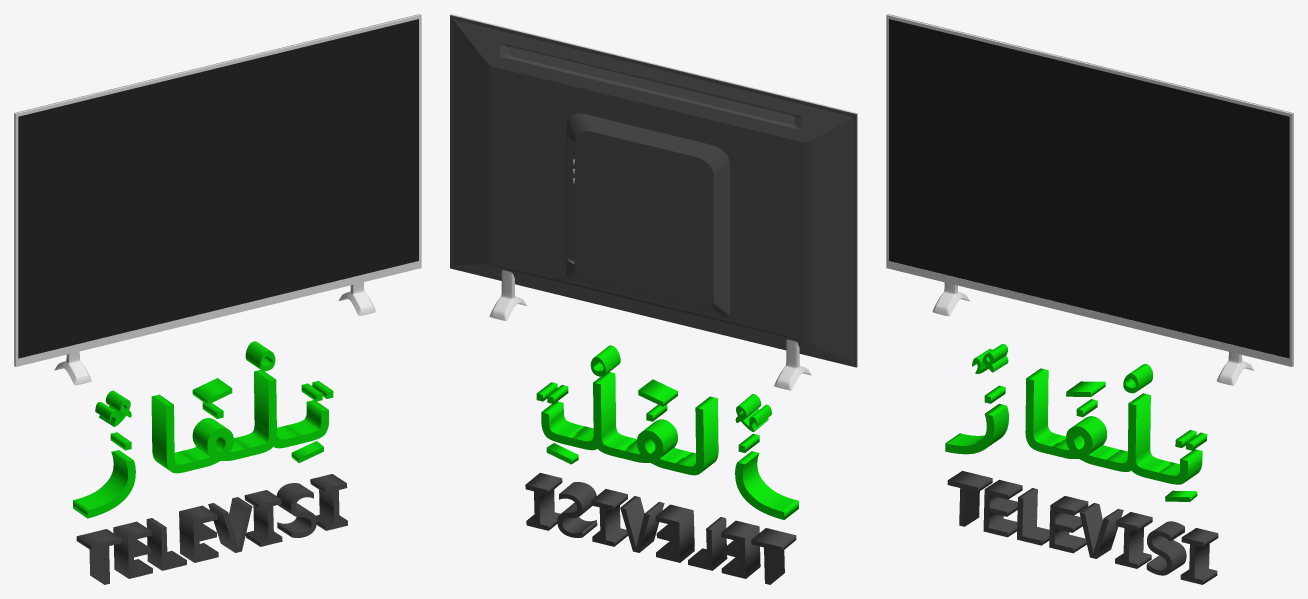
File: MI SMART TV.fbx
3 renders of one model, left to right at view 1: azimuth 30°, elevation 25°; view 2: azimuth 150°, elevation 25°; view 3: azimuth 330°, elevation 25°, orthographic.
Visible parts, largest first — view 1: Plane.002, Teks.005, Teks, Plane, Cube, Teks.004, Teks.003, Teks.002; view 2: Plane, Teks.005, Teks, Cube, Teks.004, Teks.003, Teks.002; view 3: Plane.002, Teks.005, Teks, Plane, Cube, Teks.004, Teks.002.
Boxes of the visible parts, bbox=[...] form: Plane.002: bbox=[18, 19, 418, 358]; Teks.005: bbox=[76, 474, 347, 584]; Teks: bbox=[73, 370, 333, 518]; Plane: bbox=[14, 14, 421, 366]; Cube: bbox=[54, 282, 376, 385]; Teks.004: bbox=[95, 390, 131, 426]; Teks.003: bbox=[192, 378, 232, 404]; Teks.002: bbox=[245, 341, 275, 371]; Plane: bbox=[450, 14, 857, 367]; Teks.005: bbox=[525, 473, 796, 584]; Teks: bbox=[536, 372, 798, 519]; Cube: bbox=[489, 270, 811, 390]; Teks.004: bbox=[735, 394, 771, 431]; Teks.003: bbox=[638, 379, 677, 406]; Teks.002: bbox=[590, 345, 620, 376]; Plane.002: bbox=[889, 19, 1289, 358]; Teks.005: bbox=[947, 471, 1218, 584]; Teks: bbox=[945, 368, 1207, 484]; Plane: bbox=[886, 14, 1293, 366]; Cube: bbox=[932, 282, 1254, 385]; Teks.004: bbox=[972, 344, 1008, 373]; Teks.002: bbox=[1123, 364, 1152, 393].
Bounding box in the file's own units: 642 × 736 × 61.72.
